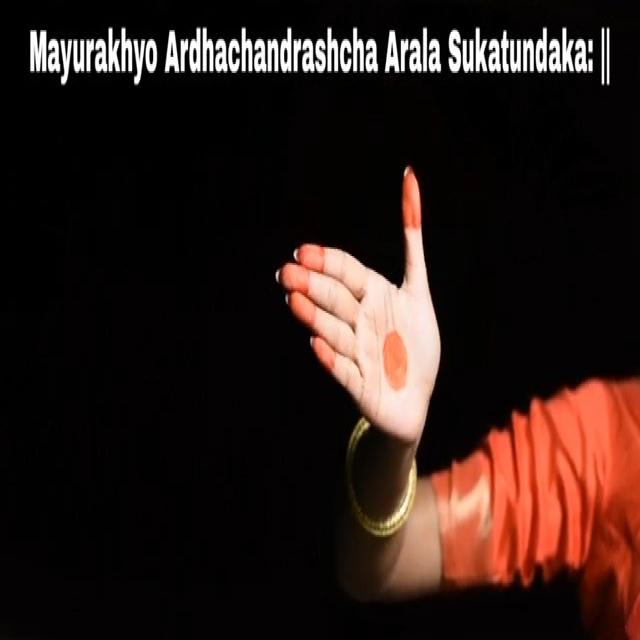Ardhachandra: (256, 144, 476, 478)
bangle: (338, 444, 422, 544)
text: (24, 9, 621, 104)
